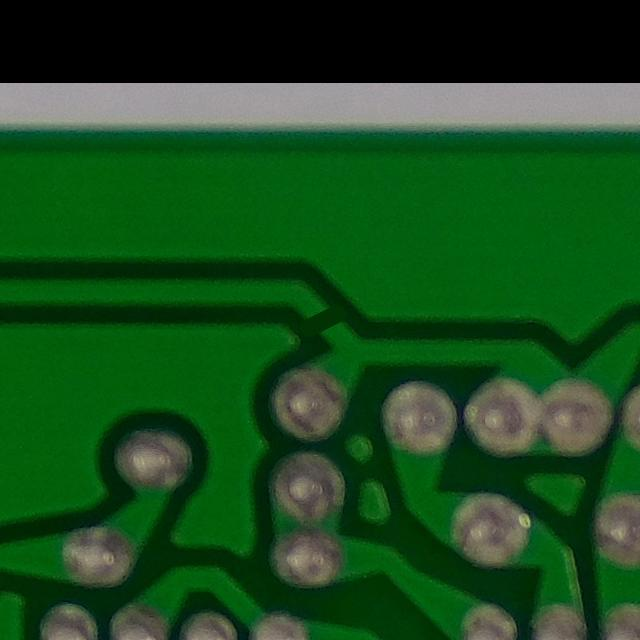open_circuit: (286, 292, 354, 348)
